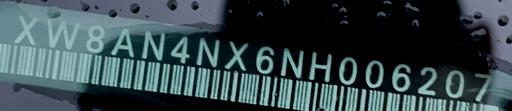letter: (46, 14, 82, 51), (278, 46, 306, 81), (306, 49, 334, 84), (12, 13, 40, 47), (194, 35, 222, 68), (141, 29, 167, 64), (110, 26, 136, 59), (224, 38, 250, 71), (416, 64, 440, 96), (444, 67, 466, 100), (84, 24, 106, 56), (472, 69, 492, 104), (254, 44, 276, 75), (362, 58, 384, 88), (390, 62, 412, 92), (338, 54, 358, 87), (169, 33, 191, 62)
